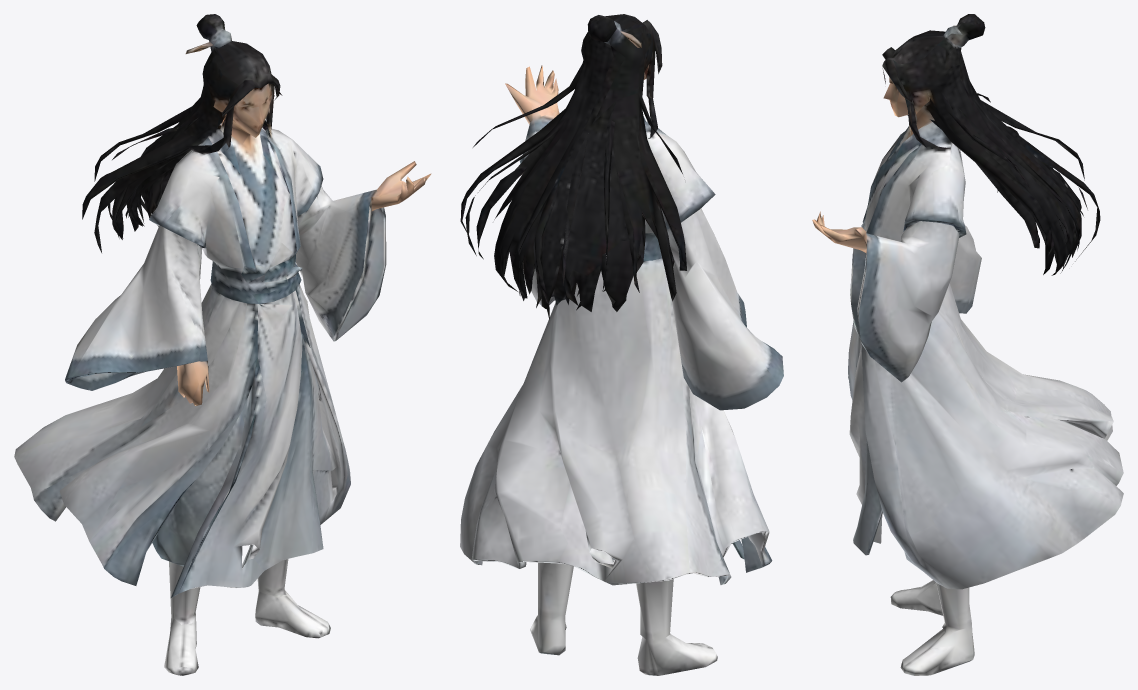
Rendered from de_tu_thap.glb.
3 views of the same model, side by side, from view 1: azimuth 30°, elevation 25°; view 2: azimuth 150°, elevation 25°; view 3: azimuth 270°, elevation 25° (orthographic). The views are drawn at different scales.
Visible parts, largest first — view 1: Mesh_0; view 2: Mesh_0; view 3: Mesh_0.
Boxes of the visible parts, x1,y1,x2,y2 form: Mesh_0: [14, 14, 431, 675]; Mesh_0: [460, 14, 783, 675]; Mesh_0: [812, 14, 1123, 675].
Size of the model in its own units: 0.5169 by 1 by 0.4575.
Materials: 1 (1 with a texture image).
